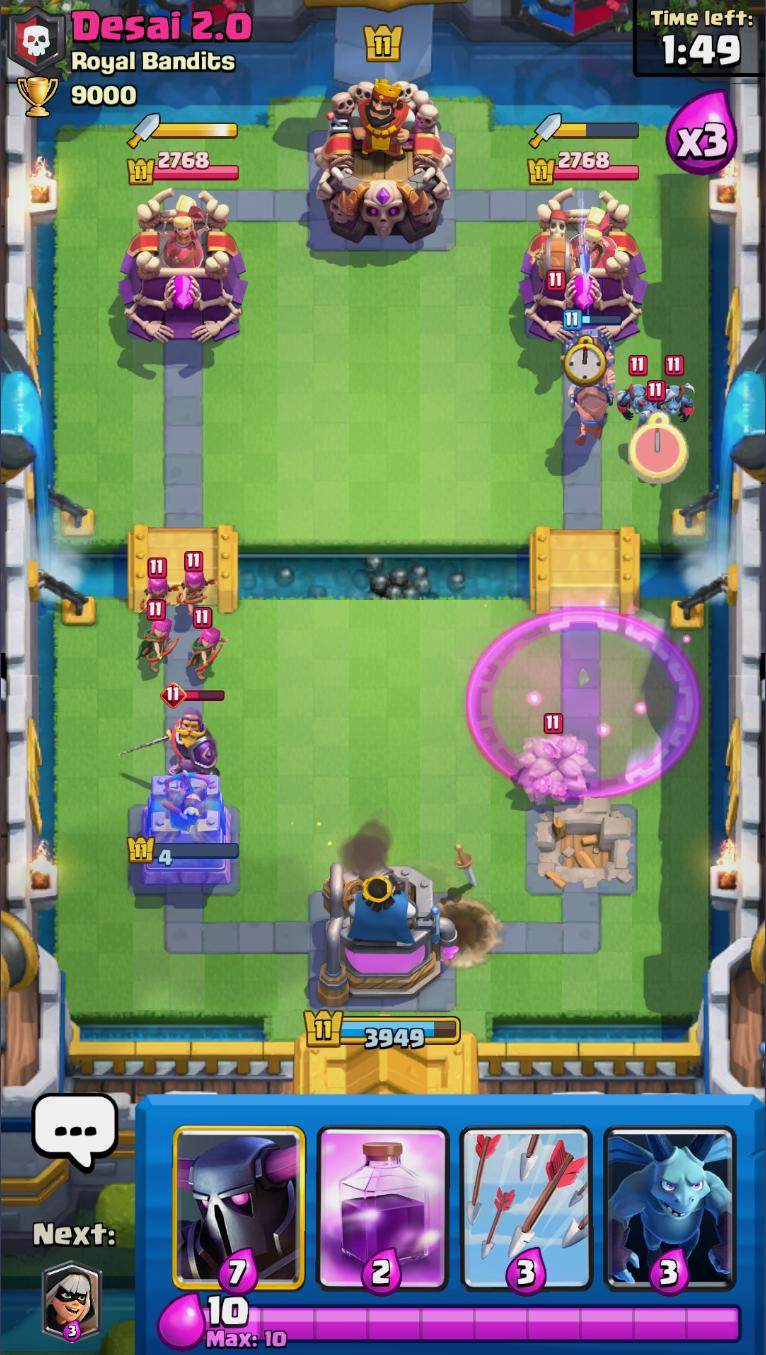Archer: (182, 605, 225, 681), (174, 550, 216, 622), (138, 598, 176, 676), (137, 555, 182, 619)
ArrowDeck: (455, 1096, 599, 1296)
BanditNext: (41, 1260, 103, 1344)
Bush: (511, 711, 599, 806)
Daggers: (526, 109, 641, 150), (126, 111, 239, 148)
Elixir: (204, 1295, 745, 1350)
EnemyTower: (516, 186, 650, 345), (118, 186, 247, 346)
EvoKnight: (119, 679, 229, 771)
KingTower: (311, 76, 455, 245)
Minion: (658, 355, 698, 427), (616, 354, 653, 421), (636, 379, 666, 436)
MinionsDeck: (596, 1096, 745, 1295)
MyBattleRam: (563, 309, 626, 450)
MyKingHP: (301, 1005, 463, 1051)
MyKingTower: (311, 860, 445, 1009)
MyPrincessTower: (126, 769, 243, 891)
MyPrincessTowerBrocken: (520, 794, 641, 900)
MyPrincessTowerHP: (125, 831, 240, 869)
PekkaDeck: (165, 1096, 312, 1294)
Rage: (466, 609, 701, 800)
RageDeck: (310, 1096, 456, 1296)
TowerPrincessHP: (124, 149, 241, 186), (525, 149, 640, 185)
WallBreakers: (530, 210, 576, 295)
